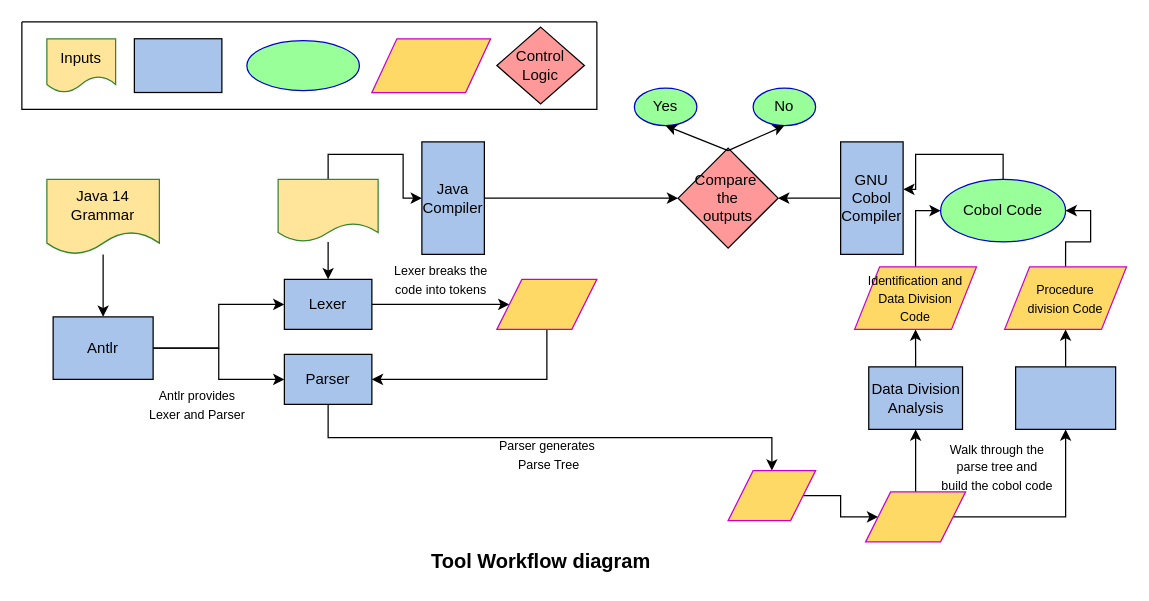
This 1149x601 diagram has some shape labels left out. Each missing label, with the centre of its shape:
"Custom Parser Listener" belongs at point 915,516.
"Final result" belongs at point 302,65.
"Intermediate result" belongs at point 431,65.
"Java Source Code" belongs at point 327,210.
"Parse tree" belongs at point 771,495.
"Procedure Division Analysis" belongs at point 1065,397.
"Process" belongs at point 177,65.
"Tokenized code" belongs at point 546,303.
